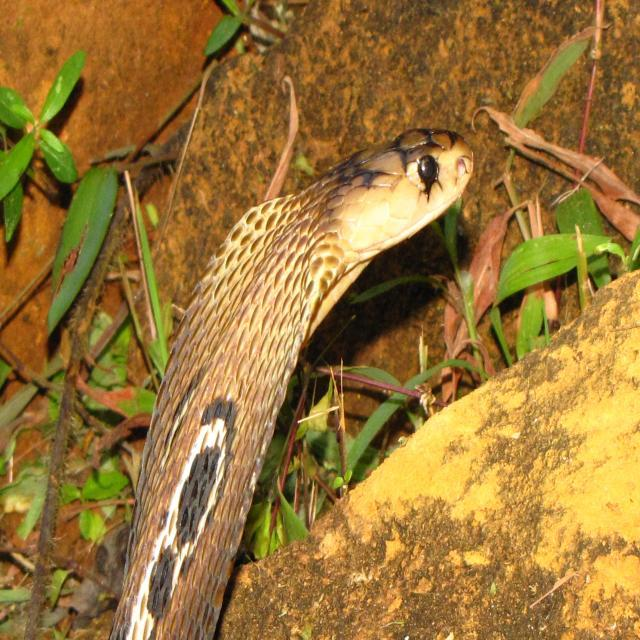Snake: (108, 124, 474, 639)
